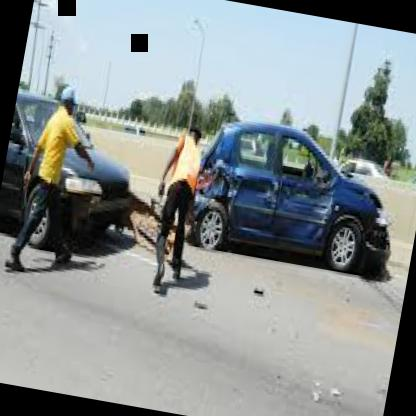accident: (168, 104, 416, 306)
